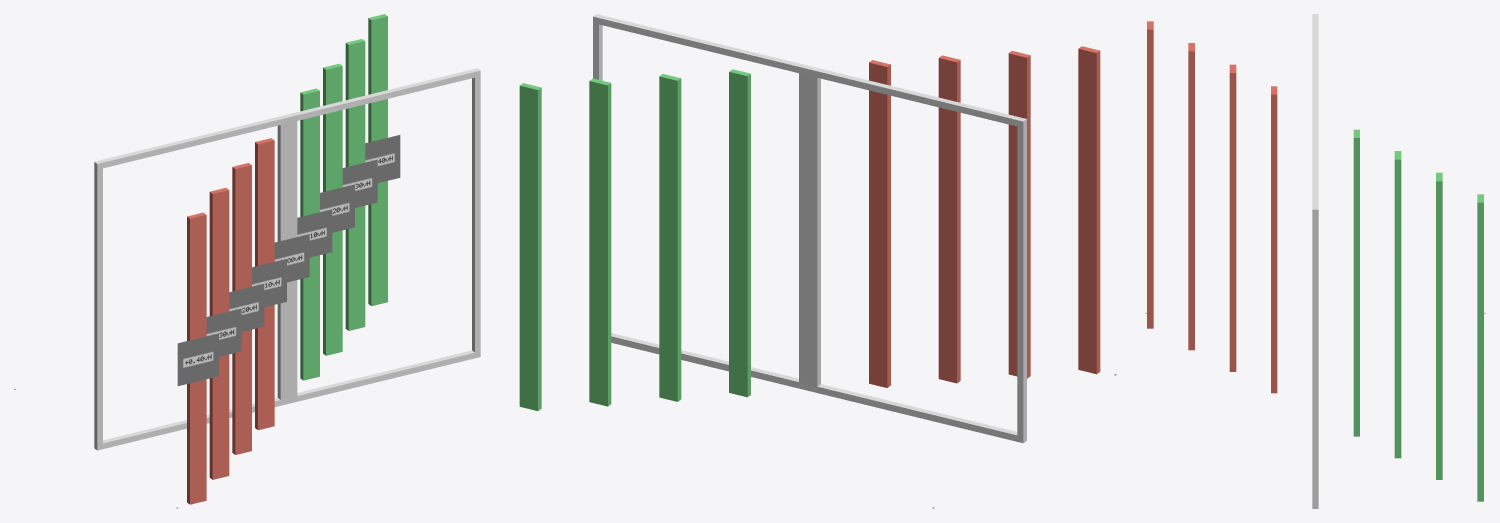
The model's file is edge_violation.glb.
The picture shows the model from 3 angles, left to right: view 1: azimuth 30°, elevation 25°; view 2: azimuth 150°, elevation 25°; view 3: azimuth 270°, elevation 25°; orthographic projection. The views are drawn at different scales.
Parts seen in each view (by area): view 1: zdp_frame, bar_+0.30vH, bar_+0.40vH, bar_0.00vH, bar_-0.30vH, bar_+0.20vH, bar_+0.10vH, bar_-0.10vH, bar_-0.40vH, bar_-0.20vH, label_+0.40vH, label_+0.20vH (+7 smaller); view 2: zdp_frame, bar_-0.30vH, bar_-0.40vH, bar_-0.20vH, bar_+0.40vH, bar_+0.20vH, bar_-0.10vH, bar_+0.10vH, bar_0.00vH, bar_+0.30vH; view 3: zdp_frame, bar_+0.20vH, bar_-0.20vH, bar_+0.40vH, bar_+0.30vH, bar_-0.30vH, bar_-0.40vH, bar_+0.10vH, bar_-0.10vH.
Boxes of the visible parts, <box> form: zdp_frame: <box>94,68,480,450</box>; bar_+0.30vH: <box>209,188,229,479</box>; bar_+0.40vH: <box>187,212,206,504</box>; bar_0.00vH: <box>277,115,297,404</box>; bar_-0.30vH: <box>345,39,365,330</box>; bar_+0.20vH: <box>232,163,251,454</box>; bar_+0.10vH: <box>255,138,274,430</box>; bar_-0.10vH: <box>300,88,319,380</box>; bar_-0.40vH: <box>368,14,387,306</box>; bar_-0.20vH: <box>323,63,342,355</box>; label_+0.40vH: <box>177,333,218,385</box>; label_+0.20vH: <box>229,284,264,331</box>; zdp_frame: <box>593,14,1026,443</box>; bar_-0.30vH: <box>589,78,611,406</box>; bar_-0.40vH: <box>519,83,541,410</box>; bar_-0.20vH: <box>659,74,681,401</box>; bar_+0.40vH: <box>1078,46,1100,374</box>; bar_+0.20vH: <box>938,55,960,383</box>; bar_-0.10vH: <box>729,69,750,397</box>; bar_+0.10vH: <box>869,60,890,387</box>; bar_0.00vH: <box>799,71,820,386</box>; bar_+0.30vH: <box>1008,51,1030,378</box>; zdp_frame: <box>1312,14,1318,508</box>; bar_+0.20vH: <box>1229,64,1236,371</box>; bar_-0.20vH: <box>1394,151,1401,458</box>; bar_+0.40vH: <box>1147,21,1153,328</box>; bar_+0.30vH: <box>1188,43,1194,350</box>; bar_-0.30vH: <box>1436,172,1442,479</box>; bar_-0.40vH: <box>1477,194,1483,501</box>; bar_+0.10vH: <box>1271,86,1277,393</box>; bar_-0.10vH: <box>1353,129,1359,436</box>.
Bounding box in the file's own units: 1.4 × 1 × 1.03.
Materials: 20 (9 with a texture image).
